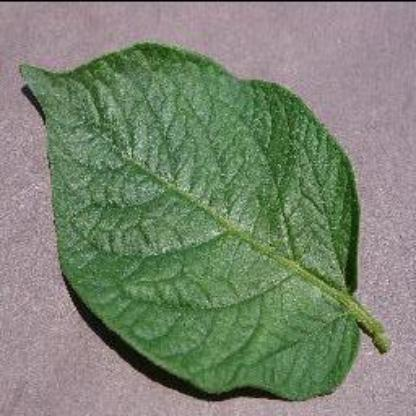Healthy-plant: (13, 33, 378, 405)
